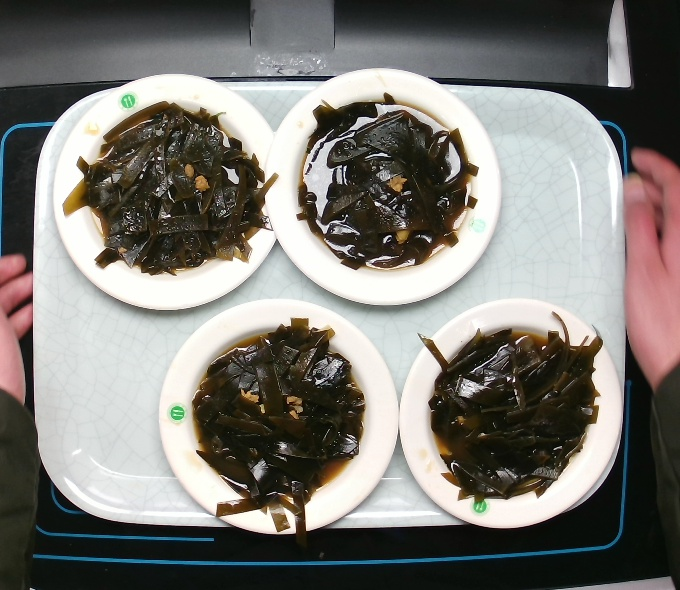wcq-HaiDai: (194, 321, 372, 514), (78, 99, 267, 276), (294, 93, 476, 273), (430, 324, 602, 511)
